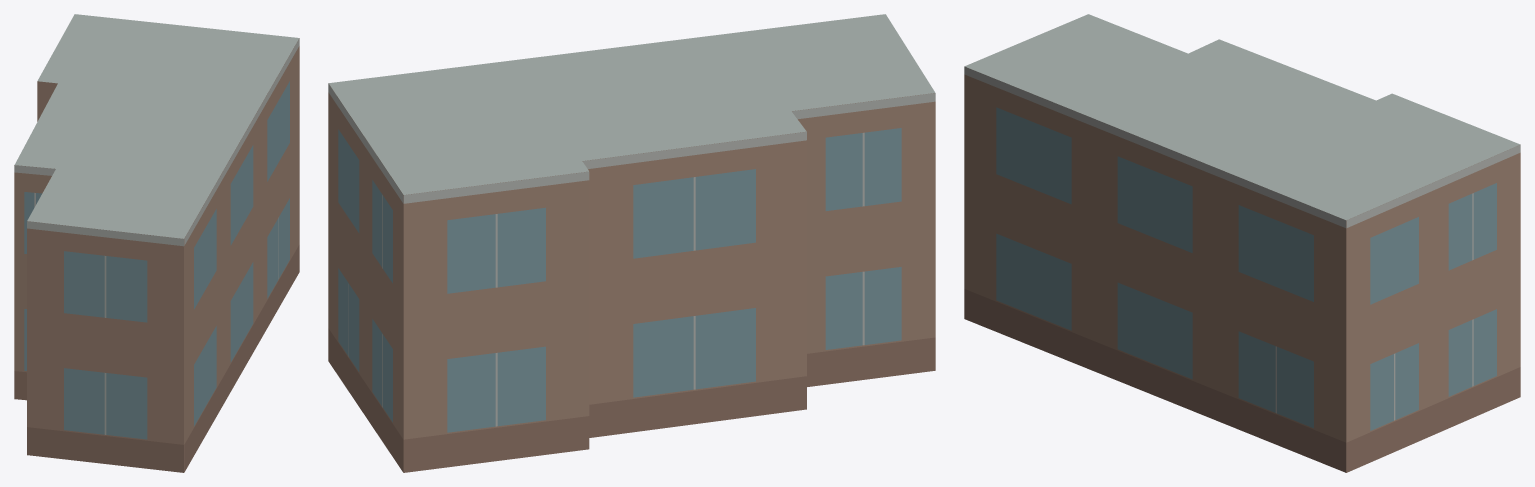
File: survey-upis-32508783.glb
3 views of the same model, side by side, from view 1: azimuth 30°, elevation 25°; view 2: azimuth 150°, elevation 25°; view 3: azimuth 270°, elevation 25° (orthographic). The views are drawn at different scales.
Parts seen in each view (by area): view 1: survey-upis-32508783.tmp; view 2: survey-upis-32508783.tmp; view 3: survey-upis-32508783.tmp.
Part boxes in pixels (box(x1,y1,x2,y2)): survey-upis-32508783.tmp: box(14, 14, 299, 472); survey-upis-32508783.tmp: box(328, 14, 935, 472); survey-upis-32508783.tmp: box(964, 14, 1520, 472).
Bounding box in the file's own units: 13.5 × 7.7 × 15.38.
